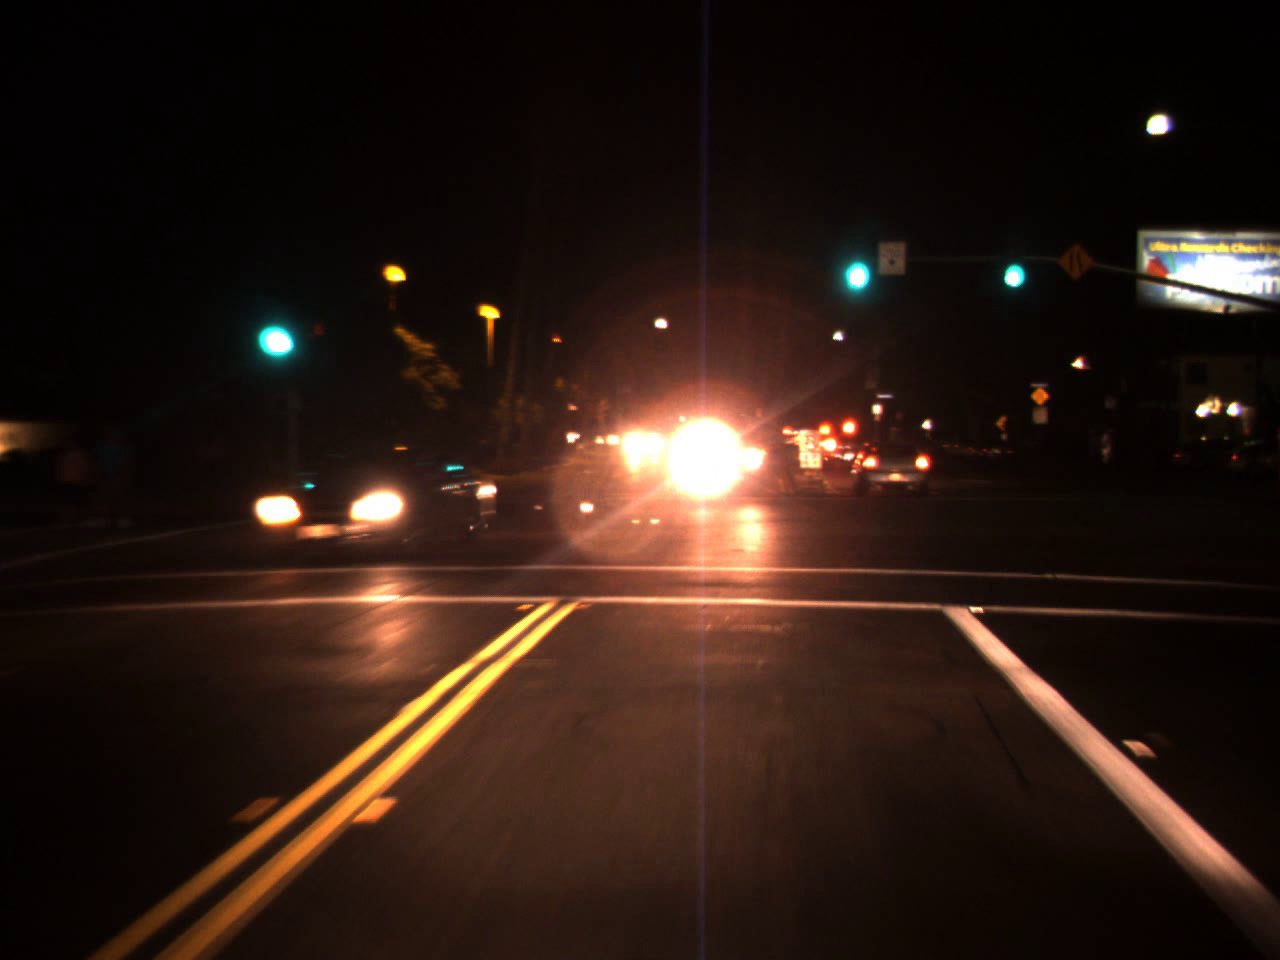go: (250, 287, 300, 368), (834, 224, 875, 302), (996, 241, 1026, 295)
